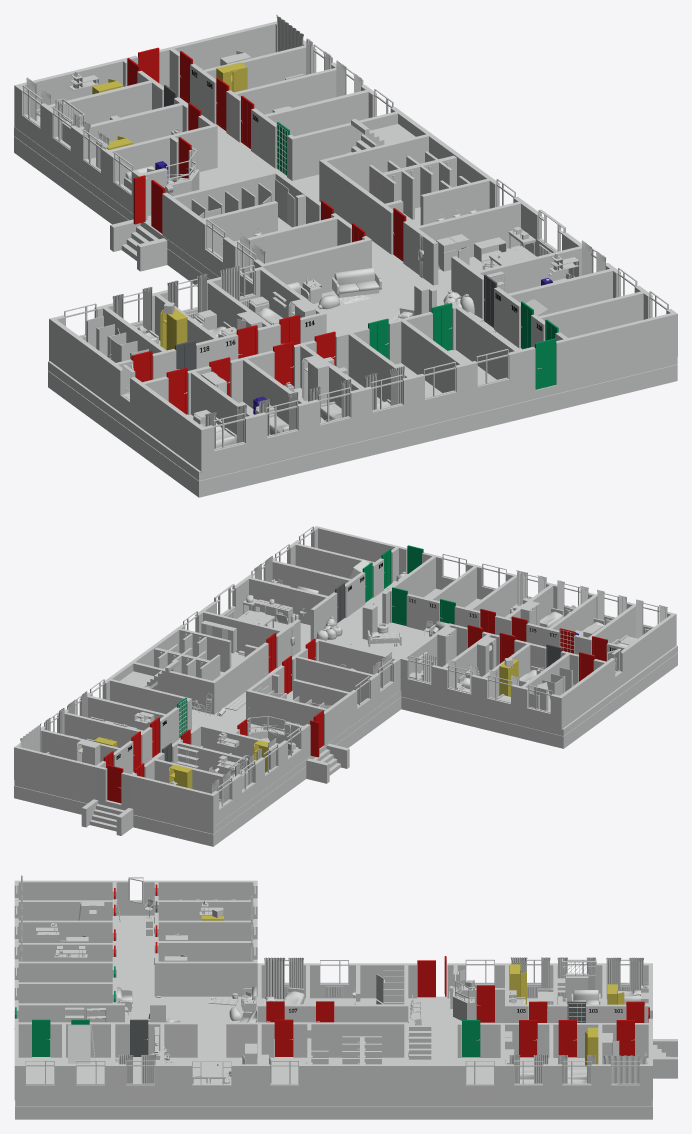
File: Dorm_1floor.glb
3 renders of one model, top to bottom at view 1: azimuth 30°, elevation 25°; view 2: azimuth 150°, elevation 25°; view 3: azimuth 270°, elevation 25°, orthographic. The views are drawn at different scales.
Visible parts, largest first — view 1: model_2, model_5, model_14, model_7, model_1, model_3, model_8, model_4, model_10, model_6; view 2: model_2, model_5, model_14, model_7, model_1, model_3, model_4, model_8, model_10, model_6; view 3: model_2, model_5, model_14, model_7, model_4, model_3, model_1, model_8, model_10, model_6, model_0.
Part boxes in pixels (x1,y1,x2,y2): model_2: [14, 21, 677, 472]; model_5: [14, 50, 677, 497]; model_14: [14, 97, 677, 480]; model_7: [127, 47, 406, 414]; model_1: [26, 60, 606, 448]; model_3: [23, 44, 477, 448]; model_8: [277, 122, 558, 389]; model_4: [36, 14, 637, 393]; model_10: [92, 62, 247, 350]; model_6: [164, 85, 497, 370]; model_2: [14, 526, 676, 828]; model_5: [14, 526, 677, 846]; model_14: [14, 585, 677, 834]; model_7: [103, 609, 607, 803]; model_1: [68, 556, 667, 806]; model_3: [44, 605, 637, 809]; model_4: [20, 544, 649, 788]; model_8: [177, 545, 455, 737]; model_10: [93, 659, 518, 788]; model_6: [162, 583, 562, 762]; model_2: [14, 880, 652, 1100]; model_5: [15, 877, 677, 1119]; model_14: [15, 915, 652, 1106]; model_7: [114, 884, 649, 1057]; model_4: [14, 906, 647, 1084]; model_3: [59, 882, 640, 1084]; model_1: [20, 875, 643, 1083]; model_8: [15, 966, 480, 1057]; model_10: [201, 914, 624, 1066]; model_6: [130, 901, 585, 1056]; model_0: [144, 898, 621, 1064].
Bounding box in the file's own units: 5.27 × 0.9067 × 7.93.
